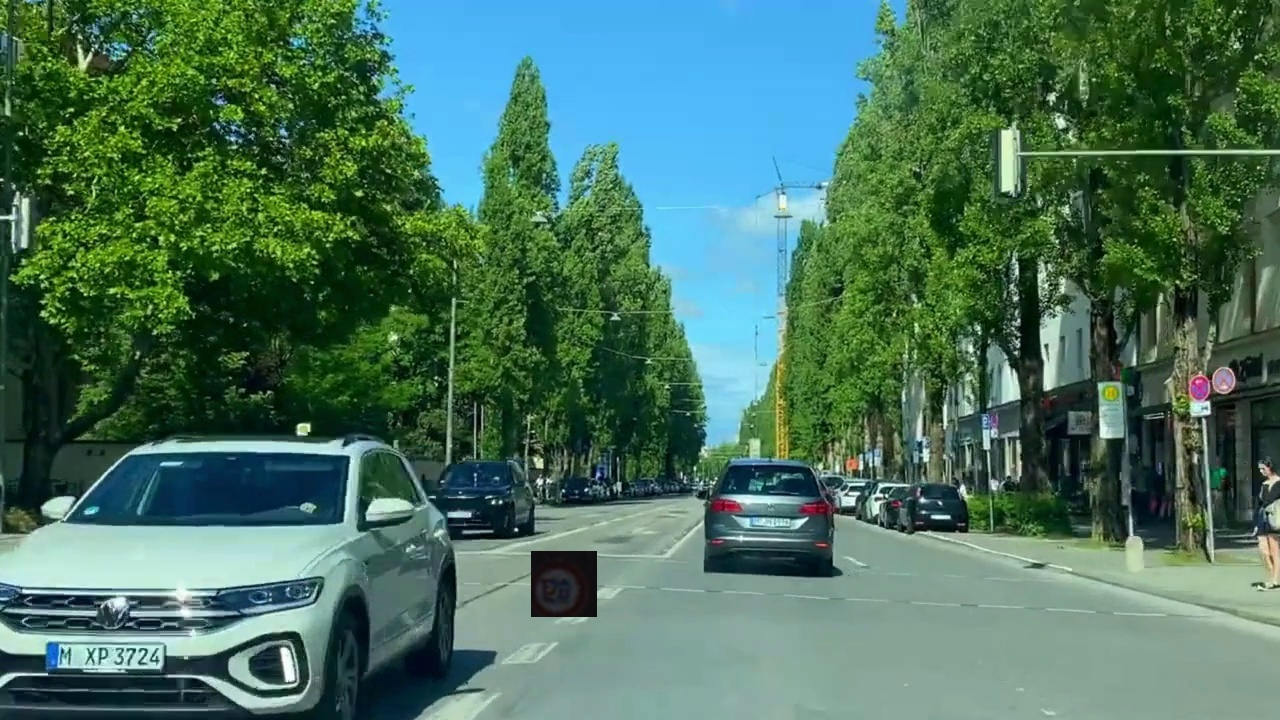Speed 120: (531, 551, 597, 617)
